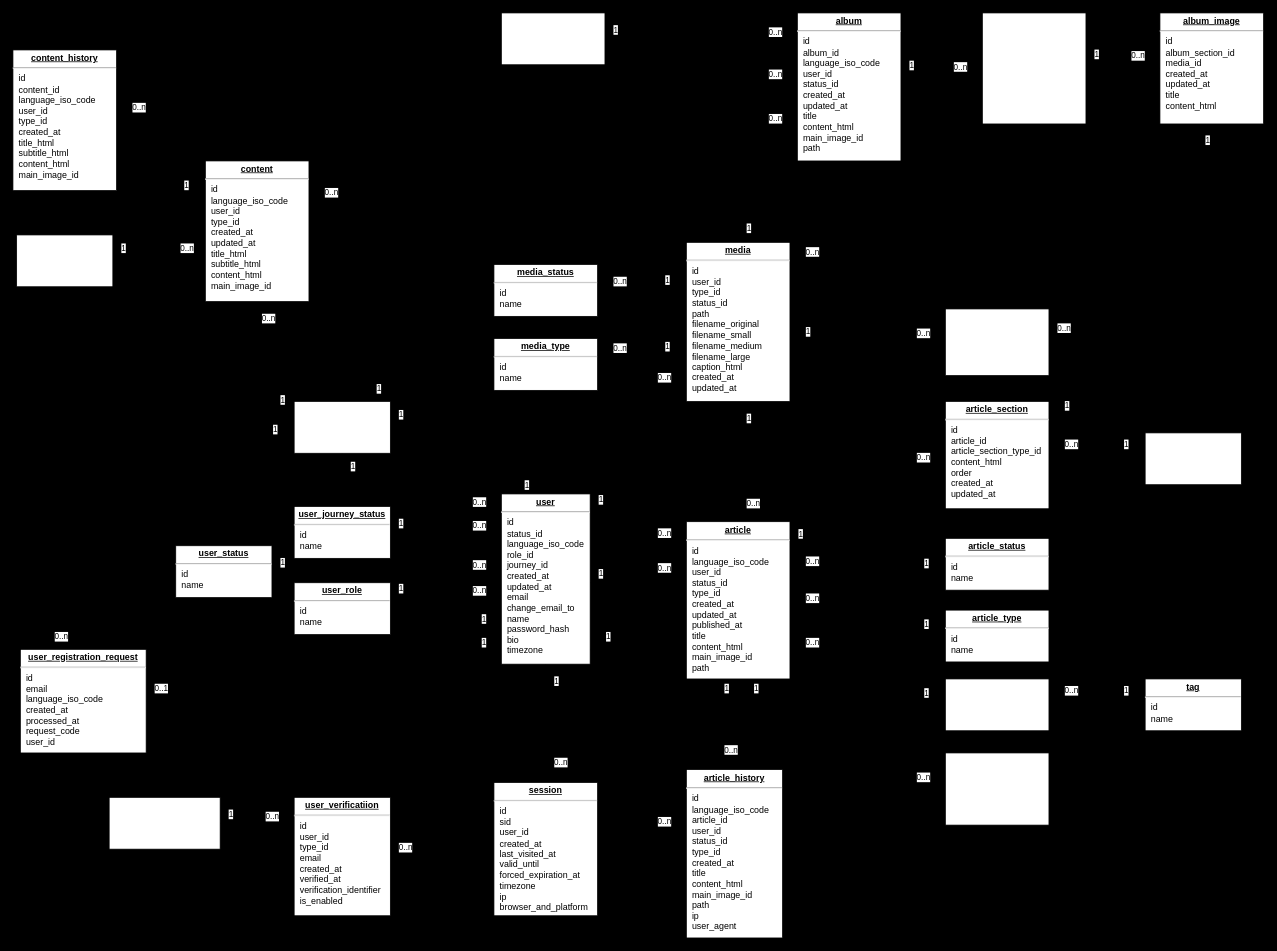
This 1277x951 diagram has some shape labels left out. The centre of each missing label's shape, as x and y in pixels:
"album_section id album_id created_at updated_at title content_html main_image_id" goes at point (1034, 68).
"album_status id name" goes at point (553, 38).
"article_path id article_id created_at path" goes at point (997, 788).
"article_section_image media_id article_section_id caption" goes at point (997, 342).
"article_section_type id name" goes at point (1192, 458).
"article_tag_relation tag_id article_id" goes at point (997, 704).
"content_type id name" goes at point (64, 260).
"language id name" goes at point (341, 427).
"user_verification_type id name" goes at point (164, 823).
